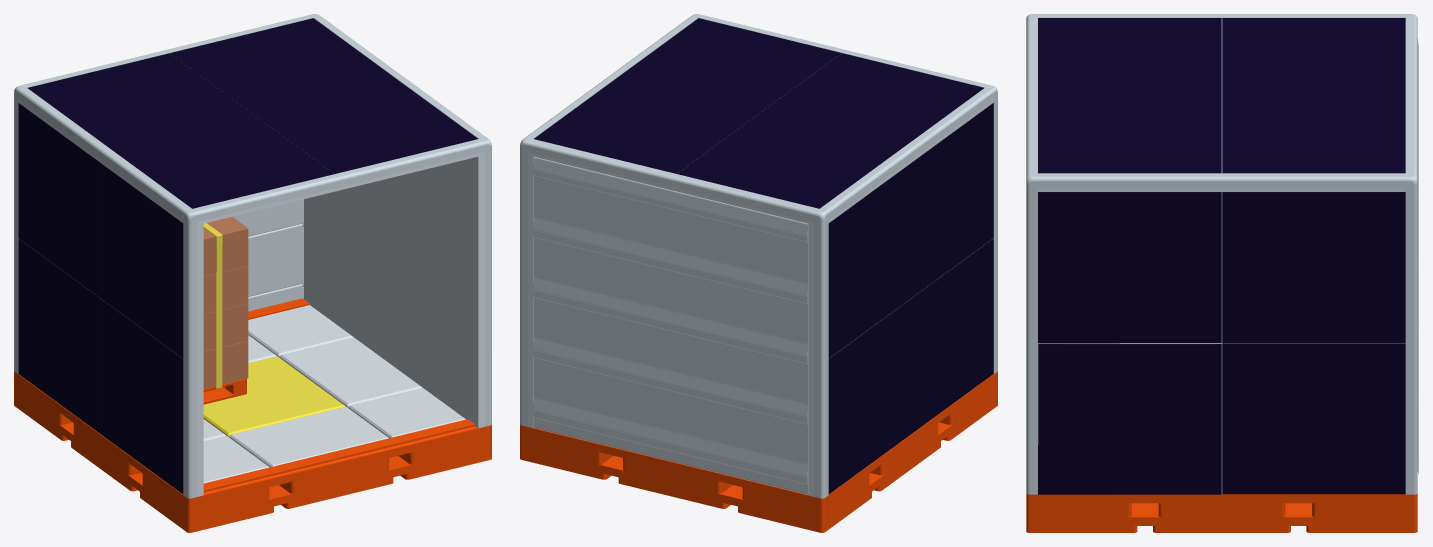
The model's file is cubeWeb.glb.
The picture shows the model from 3 angles, left to right: view 1: azimuth 30°, elevation 25°; view 2: azimuth 150°, elevation 25°; view 3: azimuth 270°, elevation 25°; orthographic projection. The views are drawn at different scales.
Parts seen in each view (by area): view 1: cube_web v3; view 2: cube_web v3; view 3: cube_web v3.
Boxes of the visible parts, <box> form: cube_web v3: <box>14,14,491,532</box>; cube_web v3: <box>520,14,997,532</box>; cube_web v3: <box>1026,14,1418,532</box>.
Size of the model in its own units: 102 by 102 by 102.
